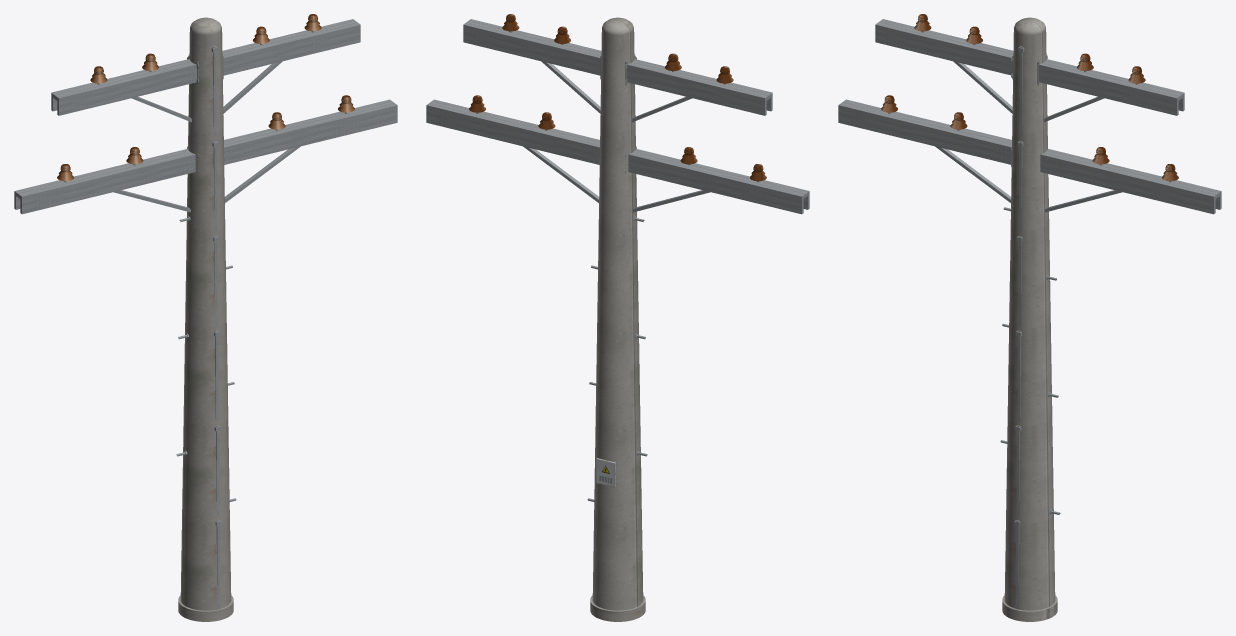
File: utility_pole.obj
The picture shows the model from 3 angles, left to right: view 1: azimuth 30°, elevation 25°; view 2: azimuth 150°, elevation 25°; view 3: azimuth 330°, elevation 25°; orthographic projection.
Parts seen in each view (by area): view 1: shaft, arm_lower, arm_upper, earth; view 2: shaft, arm_lower, arm_upper; view 3: shaft, arm_lower, arm_upper, earth.
Part boxes in pixels (x1,y1,x2,y2): shaft: [178, 17, 233, 621]; arm_lower: [14, 99, 397, 214]; arm_upper: [51, 19, 360, 122]; earth: [211, 46, 221, 609]; shaft: [590, 17, 645, 621]; arm_lower: [426, 99, 809, 214]; arm_upper: [463, 19, 772, 122]; shaft: [1002, 17, 1057, 621]; arm_lower: [838, 99, 1221, 214]; arm_upper: [875, 19, 1184, 122]; earth: [1014, 46, 1024, 609].
Size of the model in its own units: 4.17 by 6.27 by 0.534.
